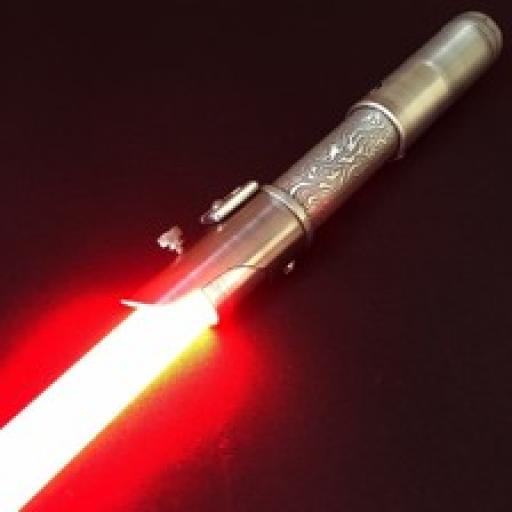lightsaber: (0, 10, 503, 512)
